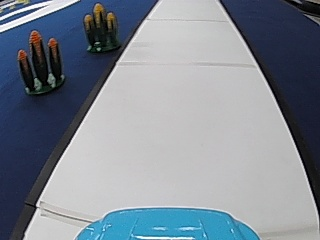corn: (18, 30, 66, 95), (83, 1, 121, 53)
